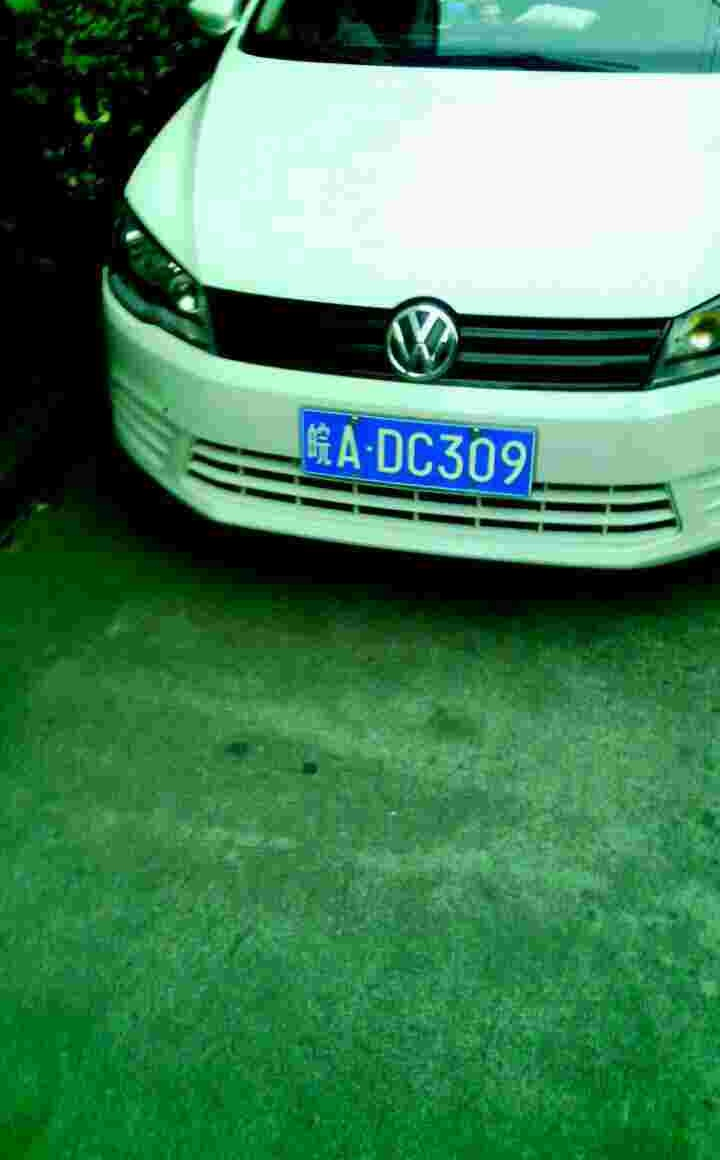license_plate: (291, 412, 540, 504)
